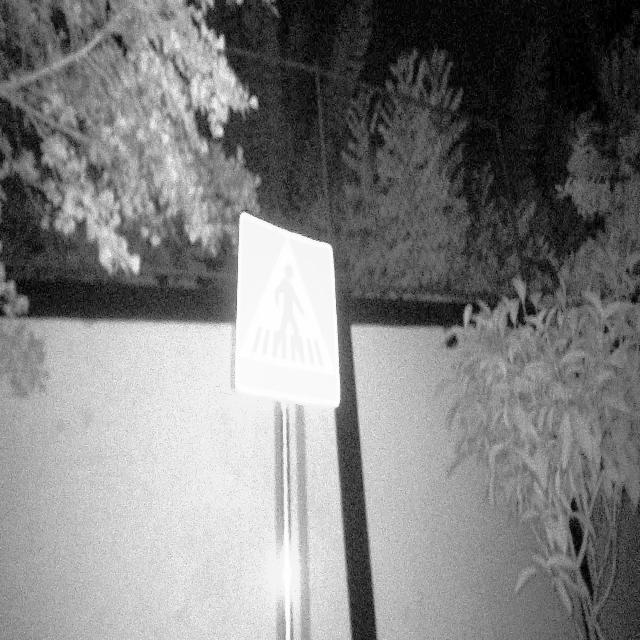Sign: (232, 207, 343, 412)
